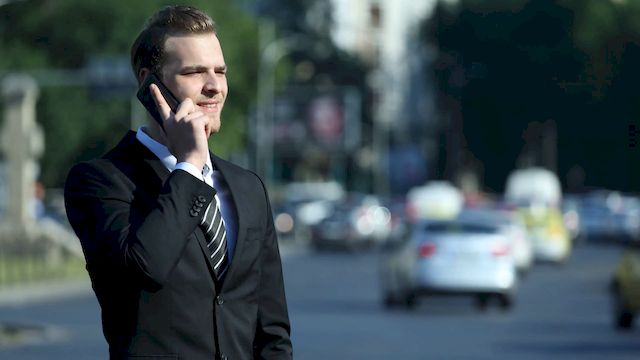phone: (126, 73, 185, 137)
talk: (136, 56, 229, 158)
